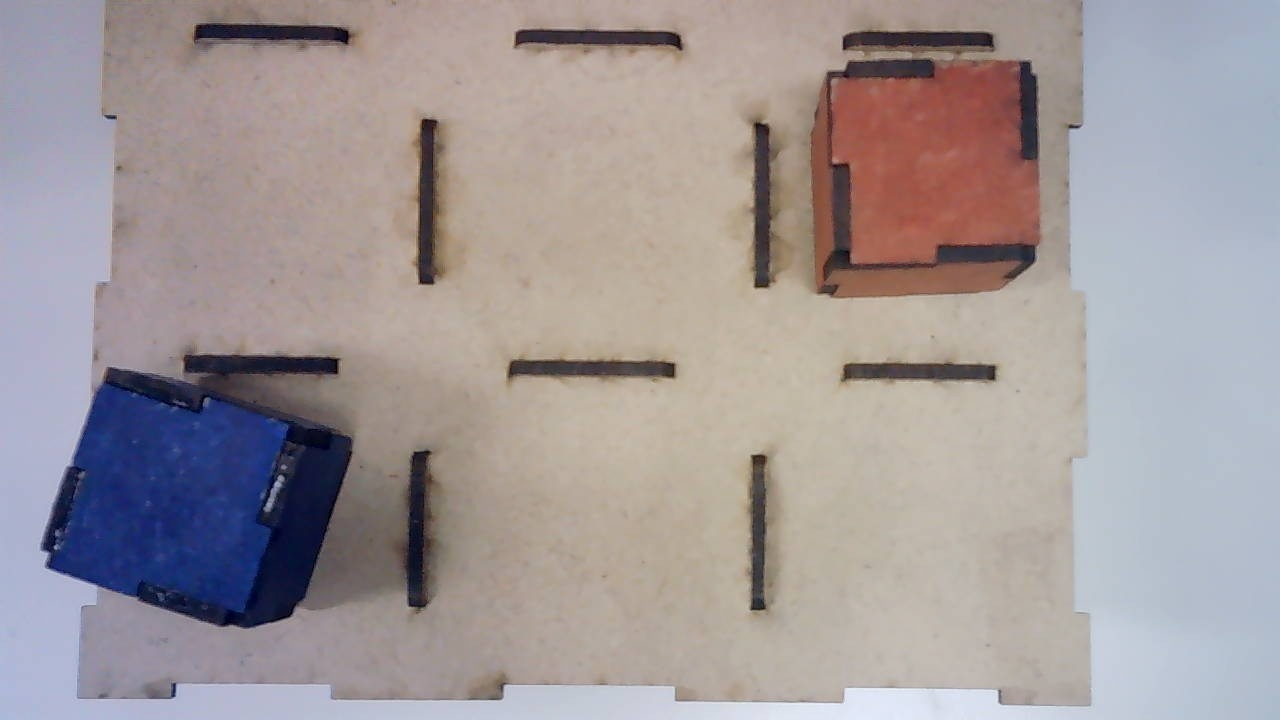blue box: (36, 365, 361, 633)
red box: (807, 53, 1040, 301)
